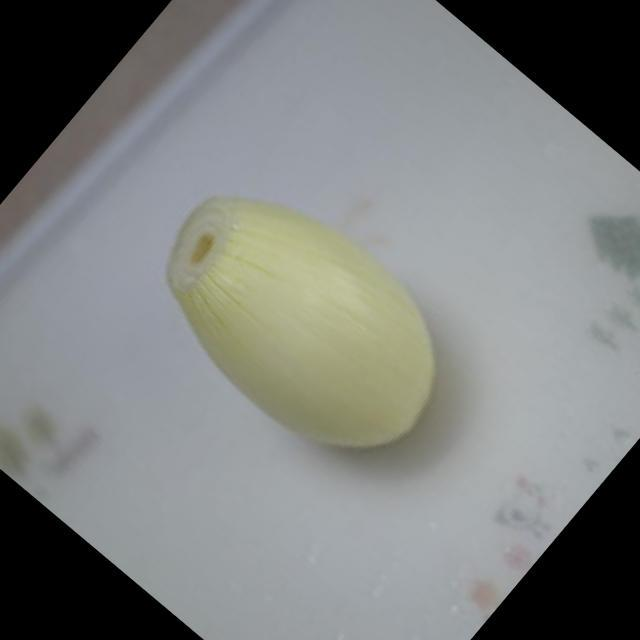Onion: (164, 198, 440, 450)
